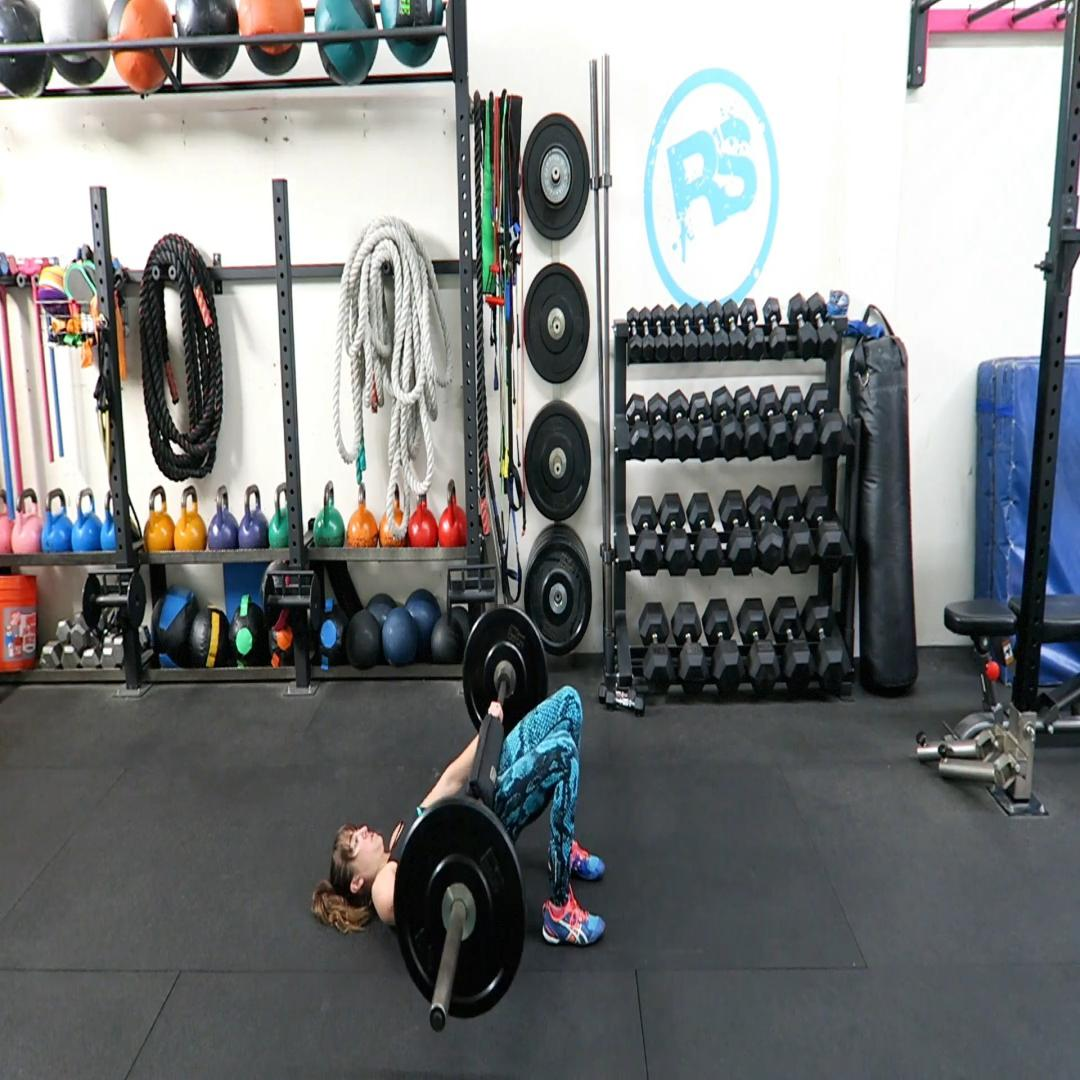Bar: (428, 1005, 447, 1034)
Barbell: (393, 803, 526, 1019)
